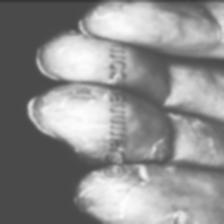Toxin: (34, 86, 90, 126), (84, 184, 132, 212), (86, 0, 136, 18), (70, 126, 96, 150), (150, 209, 190, 224), (127, 164, 147, 183)
